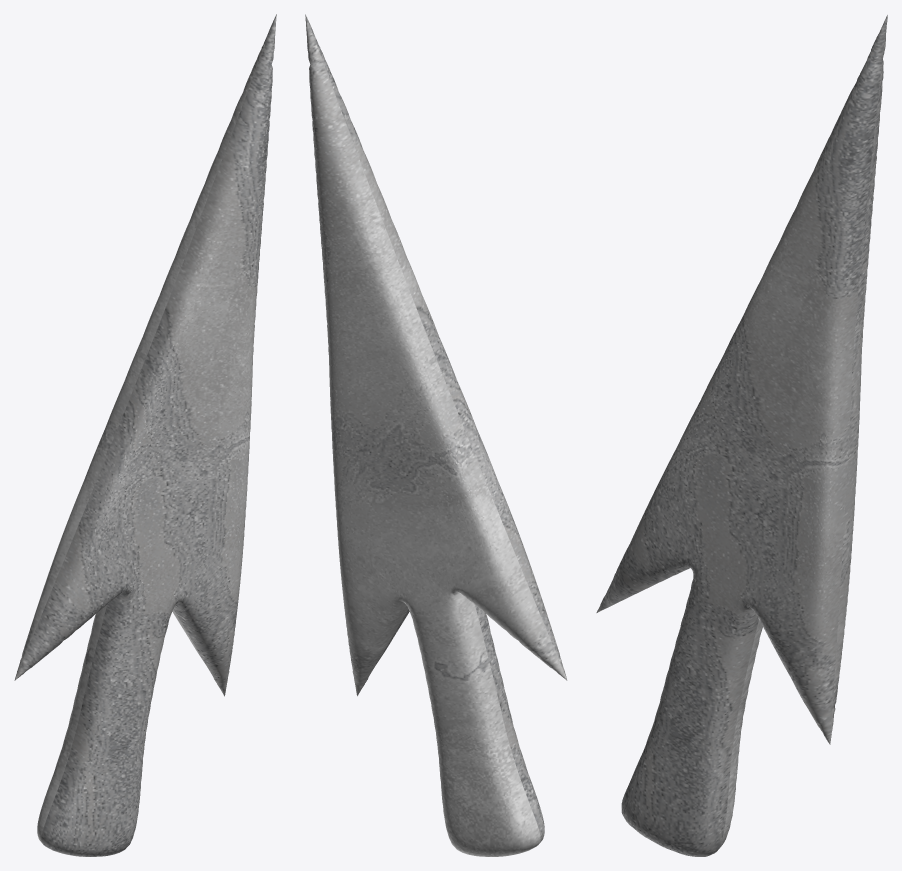
File: arrow.glb
3 views of the same model, side by side, from view 1: azimuth 30°, elevation 25°; view 2: azimuth 150°, elevation 25°; view 3: azimuth 330°, elevation 25° (orthographic). The views are drawn at different scales.
Size of the model in its own units: 0.0428 by 0.124 by 0.00845.
Materials: 1 (1 with a texture image).
